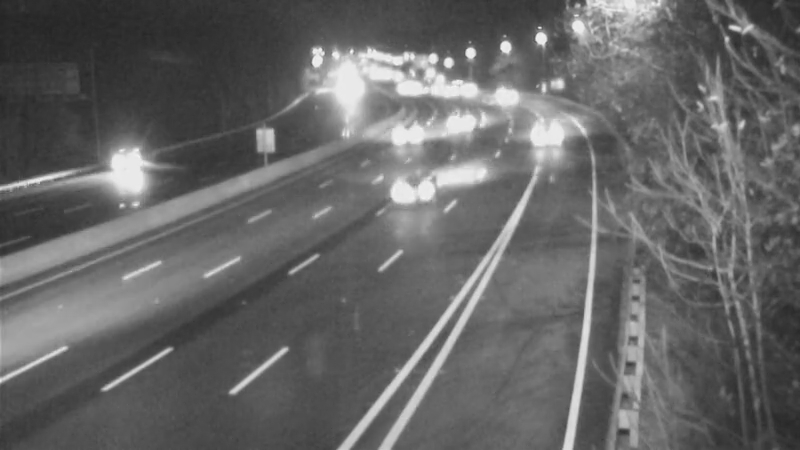vehicle: (377, 151, 457, 231), (79, 125, 159, 205), (431, 63, 481, 113), (380, 64, 430, 114), (453, 66, 503, 116), (435, 98, 485, 148), (526, 105, 576, 155), (384, 105, 434, 155)
